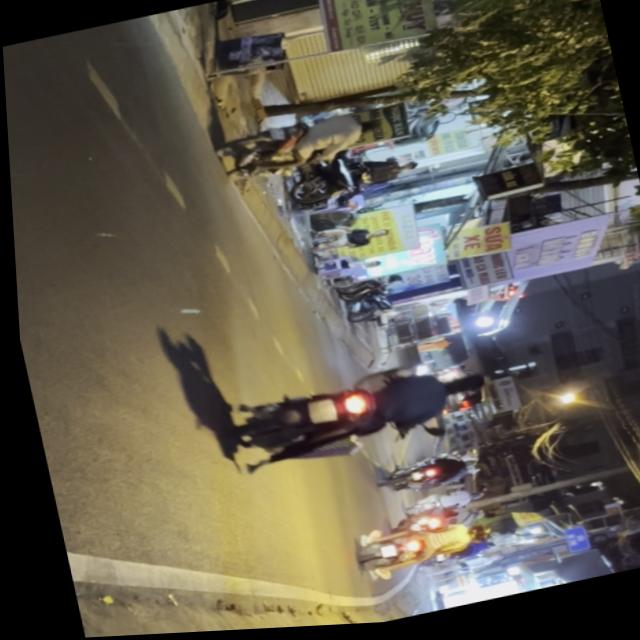licenseplate: (201, 352, 495, 484)
motorcyclist: (440, 374, 485, 402)
nohelmet: (303, 400, 333, 427)
